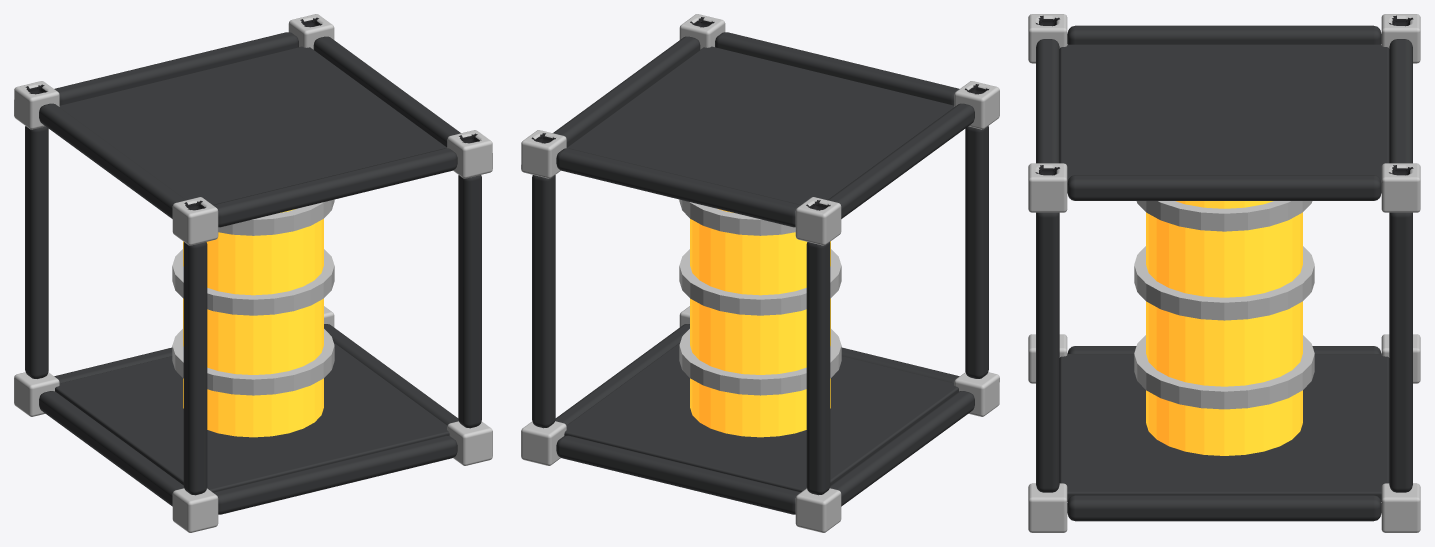
Rendered from SM_PartVehicleCore.glb.
3 renders of one model, left to right at view 1: azimuth 30°, elevation 25°; view 2: azimuth 150°, elevation 25°; view 3: azimuth 270°, elevation 25°, orthographic. The views are drawn at different scales.
Parts seen in each view (by area): view 1: SM_PartVehicleCore; view 2: SM_PartVehicleCore; view 3: SM_PartVehicleCore.
Boxes of the visible parts, x1,y1,x2,y2 form: SM_PartVehicleCore: [14, 14, 492, 532]; SM_PartVehicleCore: [521, 14, 999, 532]; SM_PartVehicleCore: [1028, 14, 1420, 532].
Bounding box in the file's own units: 1 × 1 × 1.
